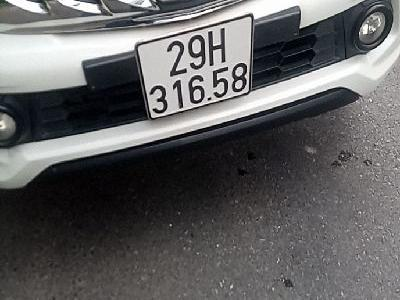number: (132, 13, 251, 122)
